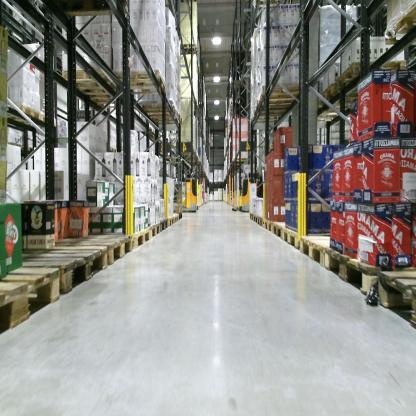pallet: (9, 243, 110, 290), (0, 267, 62, 334), (324, 244, 380, 296), (48, 233, 134, 263), (335, 59, 404, 91), (376, 270, 415, 326), (62, 66, 115, 96), (300, 235, 341, 272), (114, 72, 170, 98), (316, 82, 377, 105), (382, 3, 416, 42), (8, 102, 44, 125), (86, 89, 125, 110), (140, 99, 178, 119), (258, 83, 298, 101), (281, 225, 307, 252), (251, 3, 307, 14), (141, 114, 184, 126), (131, 226, 152, 249), (177, 43, 198, 65), (271, 218, 288, 242), (40, 111, 56, 129), (151, 221, 161, 240), (157, 218, 168, 235), (263, 219, 271, 235), (173, 204, 185, 214), (166, 216, 175, 228), (171, 213, 179, 224), (252, 212, 258, 225), (257, 215, 262, 228), (249, 210, 253, 222)
pallet_truck: (177, 166, 200, 213), (240, 158, 258, 211)
